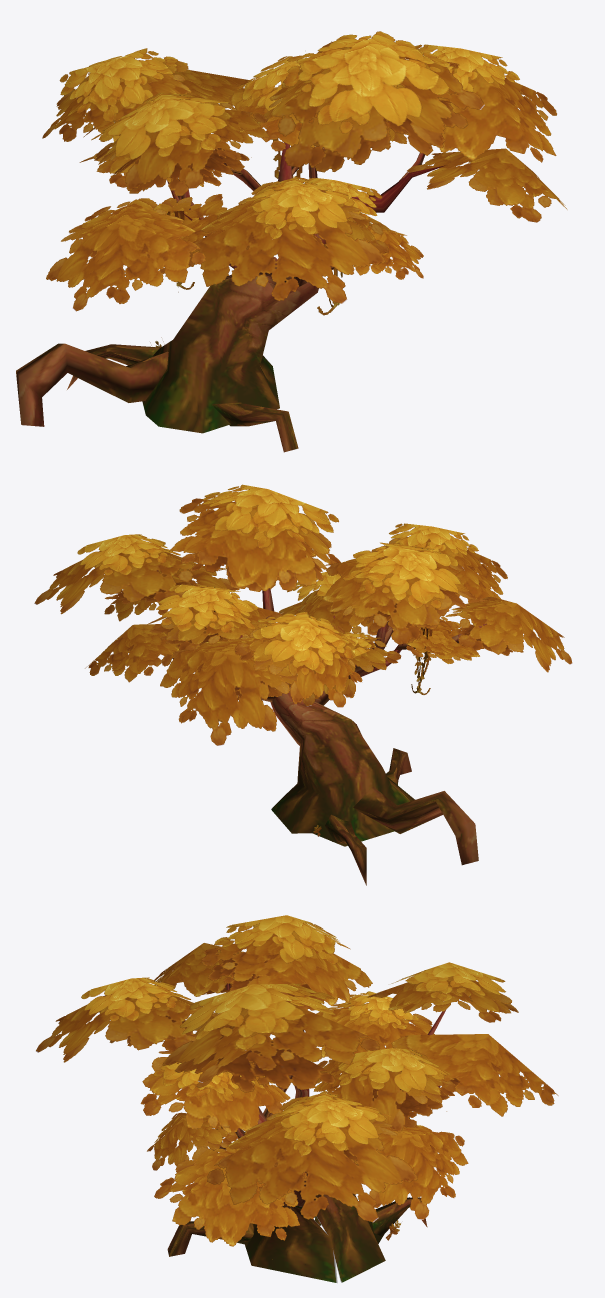
Rendered from sm_tree_hong.FBX.
3 renders of one model, top to bottom at view 1: azimuth 30°, elevation 25°; view 2: azimuth 150°, elevation 25°; view 3: azimuth 270°, elevation 25°, orthographic. The views are drawn at different scales.
Visible parts, largest first — view 1: Object02; view 2: Object02; view 3: Object02.
Boxes of the visible parts, x1,y1,x2,y2 form: Object02: [16, 31, 567, 452]; Object02: [34, 484, 572, 885]; Object02: [36, 915, 558, 1283].
Size of the model in its own units: 2484 by 2192 by 1430.
